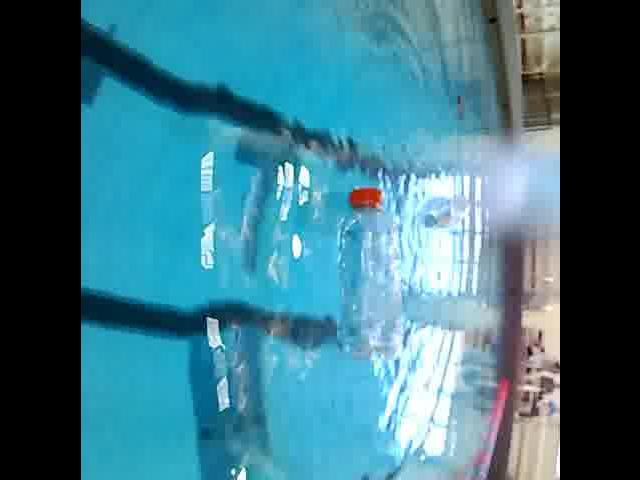Bottle: (330, 183, 406, 365)
